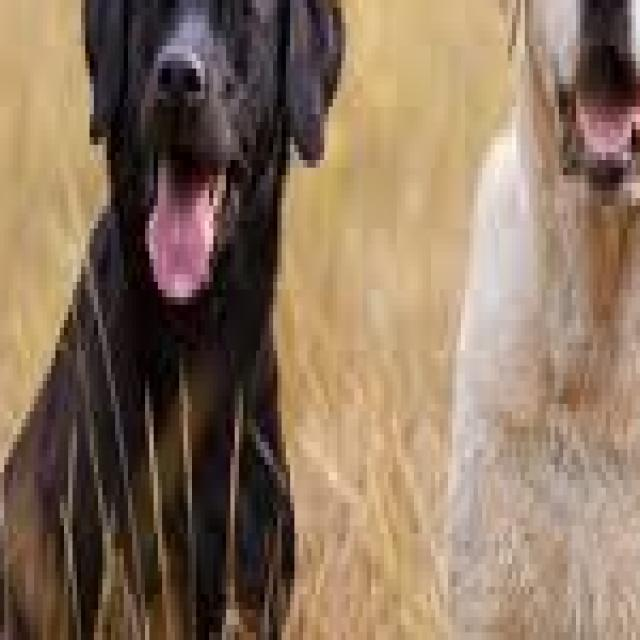dog: (0, 0, 358, 640), (397, 0, 640, 640)
